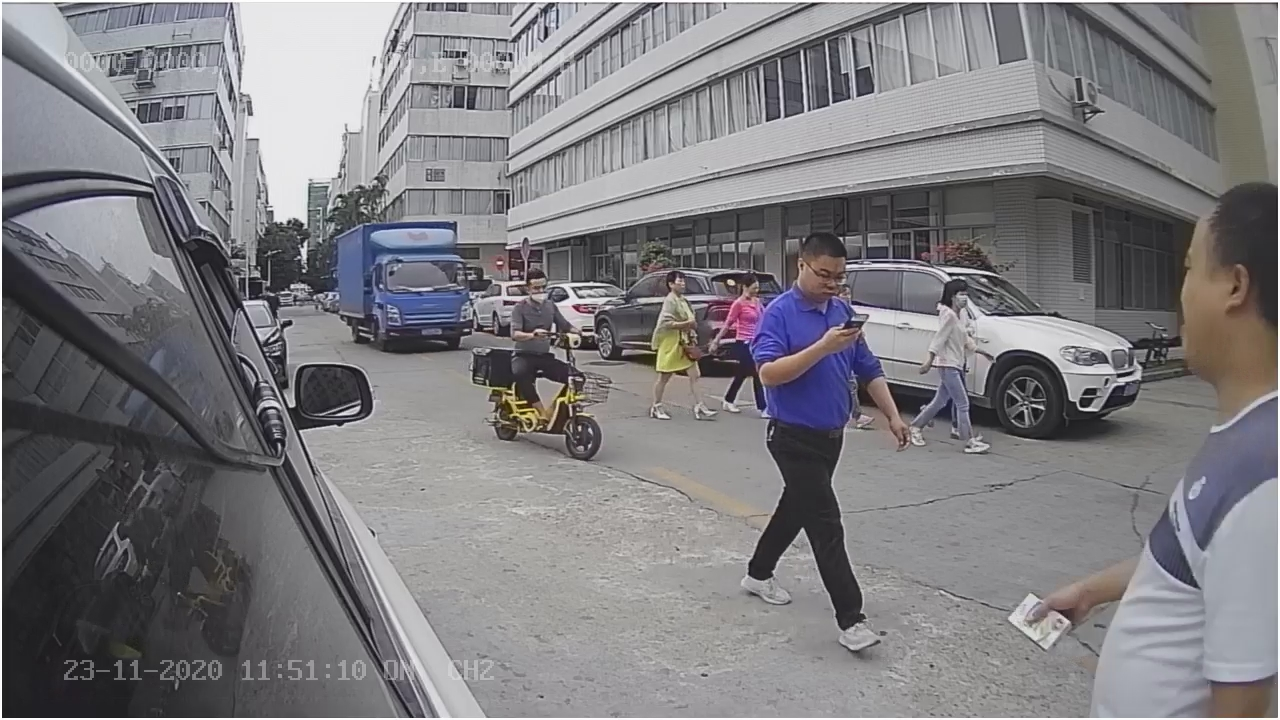person: (736, 216, 917, 661), (640, 265, 717, 420)
